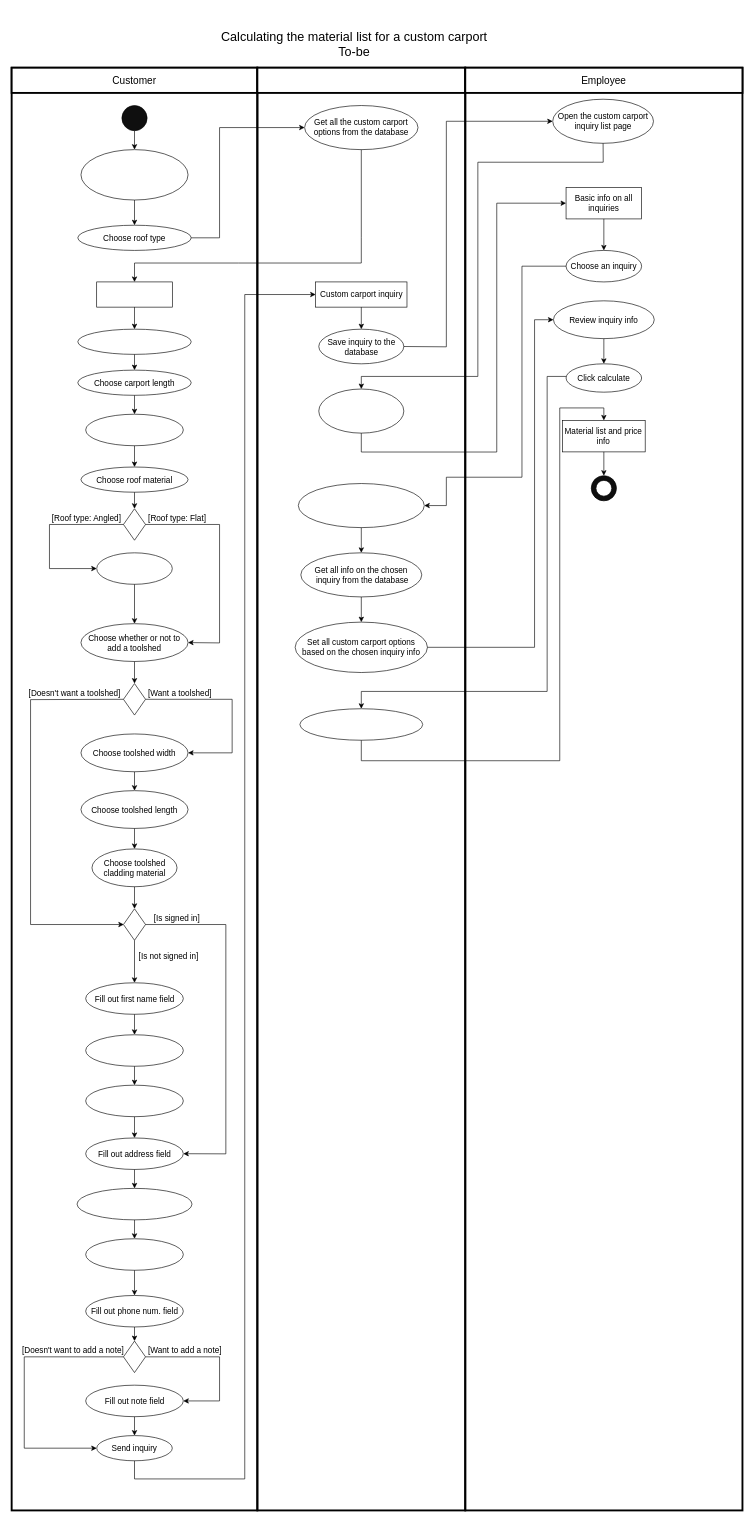
The diagram is 754 pixels wide and 1522 high, and some of its shapes have lost their labels. The box of each missing label's shape, as (x1, y1, x2, y2) in pixels:
Calculate material and price: (299, 708, 423, 740)
Choose carport height: (85, 414, 183, 446)
Choose carport width: (77, 329, 191, 354)
Choose roof angle: (96, 552, 172, 584)
Custom carport options: (96, 281, 172, 307)
Fill out city field: (85, 1238, 183, 1270)
Fill out email field: (85, 1085, 183, 1117)
Fill out last name field: (85, 1034, 183, 1066)
Fill out postal code field: (76, 1188, 192, 1220)
Find the custom carport section from the Fog website: (80, 149, 188, 200)
Get all custom carport options from the database: (298, 483, 424, 528)
Get basic inquiry info from the database: (318, 388, 404, 433)
IT-System: (256, 66, 466, 94)
